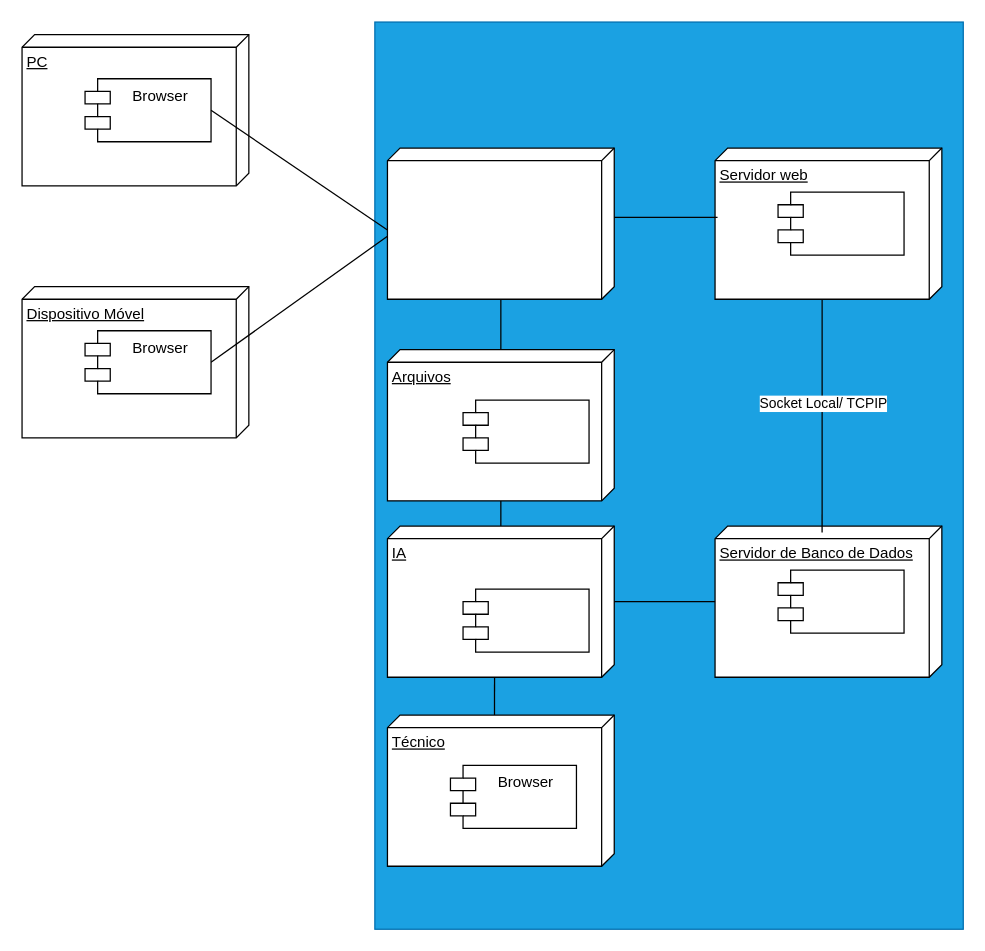
Image size: 985x951. Some labels were removed from this diagram. Each missing label, with the centre of its shape:
"Apache" belongs at point (840, 223).
"Camada de A utenticação" belongs at point (500, 223).
"Chamados Tickets" belongs at point (525, 431).
"Classifica Atribui" belongs at point (525, 620).
"My Sql" belongs at point (840, 601).
